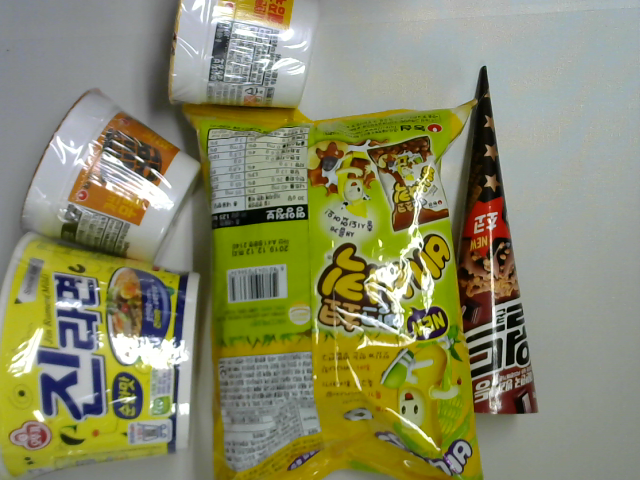Banana_Kick: (178, 94, 487, 480)
Hejangmini: (160, 1, 327, 113)
Jinlamyeon_Mild_Taste_Large_Cup: (3, 232, 219, 480)
Udongmini: (9, 79, 210, 271)
World_Cone_Choco: (438, 62, 544, 423)
